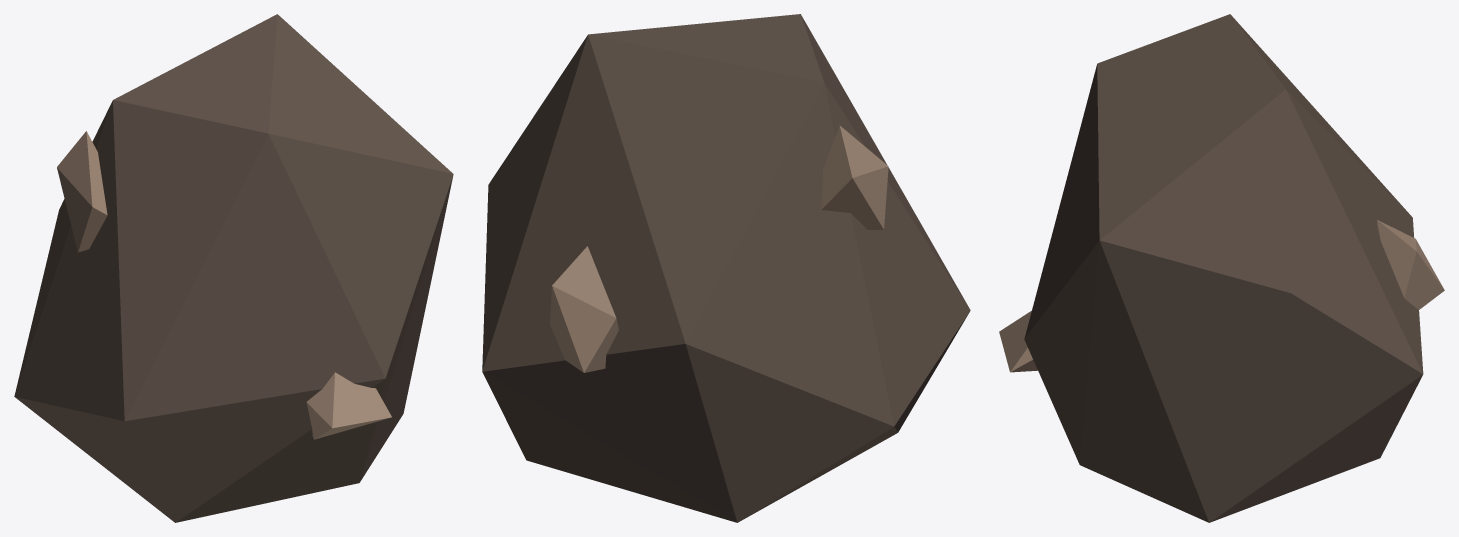
The model's file is Iron.fbx.
3 renders of one model, left to right at view 1: azimuth 30°, elevation 25°; view 2: azimuth 150°, elevation 25°; view 3: azimuth 270°, elevation 25°, orthographic. The views are drawn at different scales.
Visible parts, largest first — view 1: iron.002; view 2: iron.002; view 3: iron.002.
Boxes of the visible parts, bbox=[...] form: iron.002: bbox=[14, 14, 453, 522]; iron.002: bbox=[482, 14, 970, 522]; iron.002: bbox=[999, 14, 1444, 522].
Bounding box in the file's own units: 153 × 157 × 163.
